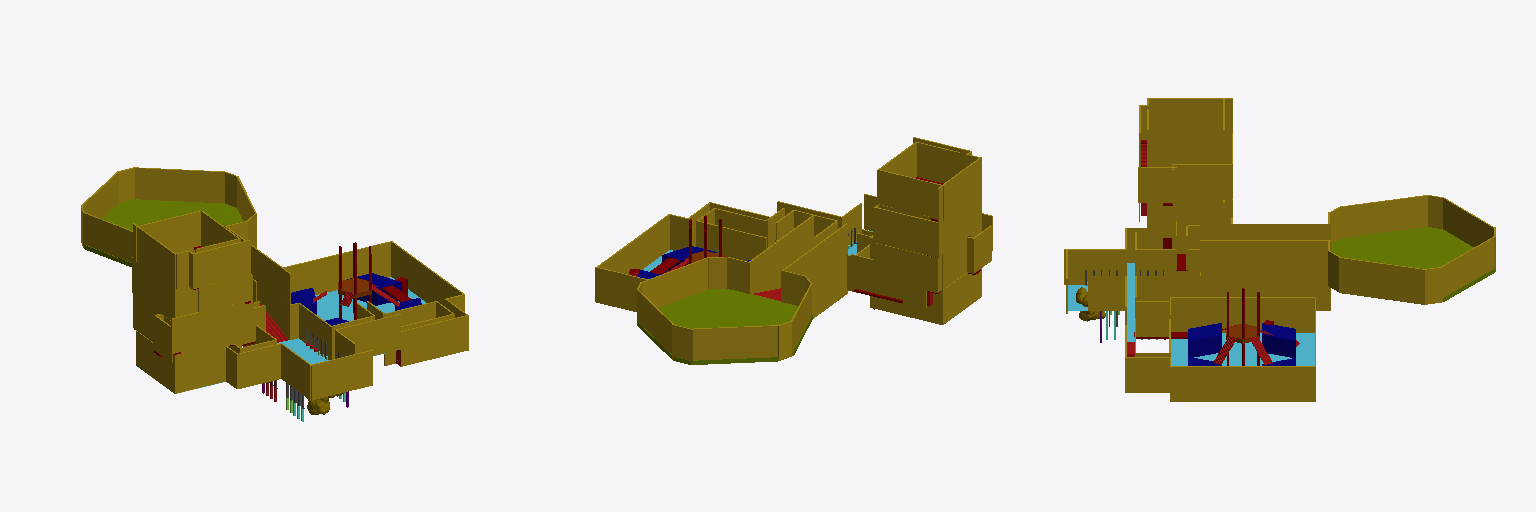
File: templelevel.obj
3 views of the same model, side by side, from view 1: azimuth 30°, elevation 25°; view 2: azimuth 150°, elevation 25°; view 3: azimuth 270°, elevation 25° (orthographic).
Parts seen in each view (by area): view 1: Wall065, Wall059, Gengon001, Wall017, Wall051, Wall076, Wall042, Wall060, Wall003, Wall050, Wall038, Wall068 (+17 smaller); view 2: Gengon001, Wall077, Wall066, Wall076, Wall018, Wall038, Wall069, Wall060, Wall030_collider, Wall021, Wall058, Wall059 (+16 smaller); view 3: Wall076, Wall060, Gengon001, Wall061, Wall069, Wall068, Wall039, Wall037, Wall077, Gardens_floor001, Wall078, Wall065 (+13 smaller).
Boxes of the visible parts, box(x1,y1,x2,y2) form: Wall065: box(135, 167, 224, 202); Wall059: box(283, 241, 390, 294); Gengon001: box(84, 199, 243, 266); Wall017: box(171, 303, 238, 353); Wall051: box(400, 315, 467, 366); Wall076: box(225, 227, 290, 339); Wall042: box(193, 240, 250, 288); Wall060: box(391, 241, 463, 305); Wall003: box(176, 347, 225, 393); Wall050: box(336, 314, 400, 355); Wall038: box(136, 211, 200, 261); Wall068: box(83, 212, 132, 262); Gengon001: box(638, 289, 812, 364); Wall077: box(781, 223, 847, 318); Wall066: box(693, 325, 777, 359); Wall076: box(748, 215, 813, 293); Wall018: box(873, 243, 938, 292); Wall038: box(879, 170, 944, 220); Wall069: box(641, 257, 707, 307); Wall060: box(597, 214, 669, 274); Wall030_collider: box(873, 207, 938, 257); Wall021: box(851, 254, 926, 307); Wall058: box(698, 221, 766, 261); Wall059: box(595, 267, 648, 311); Wall076: box(1200, 240, 1330, 310); Wall060: box(1170, 366, 1314, 401); Gengon001: box(1330, 227, 1494, 304); Wall061: box(1171, 297, 1314, 332); Wall069: box(1339, 257, 1424, 304); Wall068: box(1341, 195, 1428, 237); Wall039: box(1147, 130, 1224, 164); Wall037: box(1147, 98, 1232, 132); Wall077: box(1200, 224, 1330, 239); Gardens_floor001: box(1171, 333, 1314, 365); Wall078: box(1064, 249, 1126, 284); Wall065: box(1441, 236, 1495, 302).
Bounding box in the file's own units: 73.83 × 39.23 × 89.47.